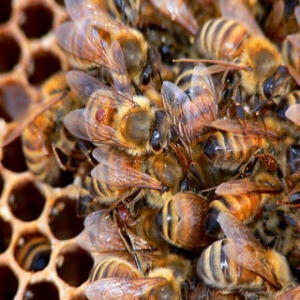bee: (197, 12, 294, 104), (53, 1, 155, 85)
